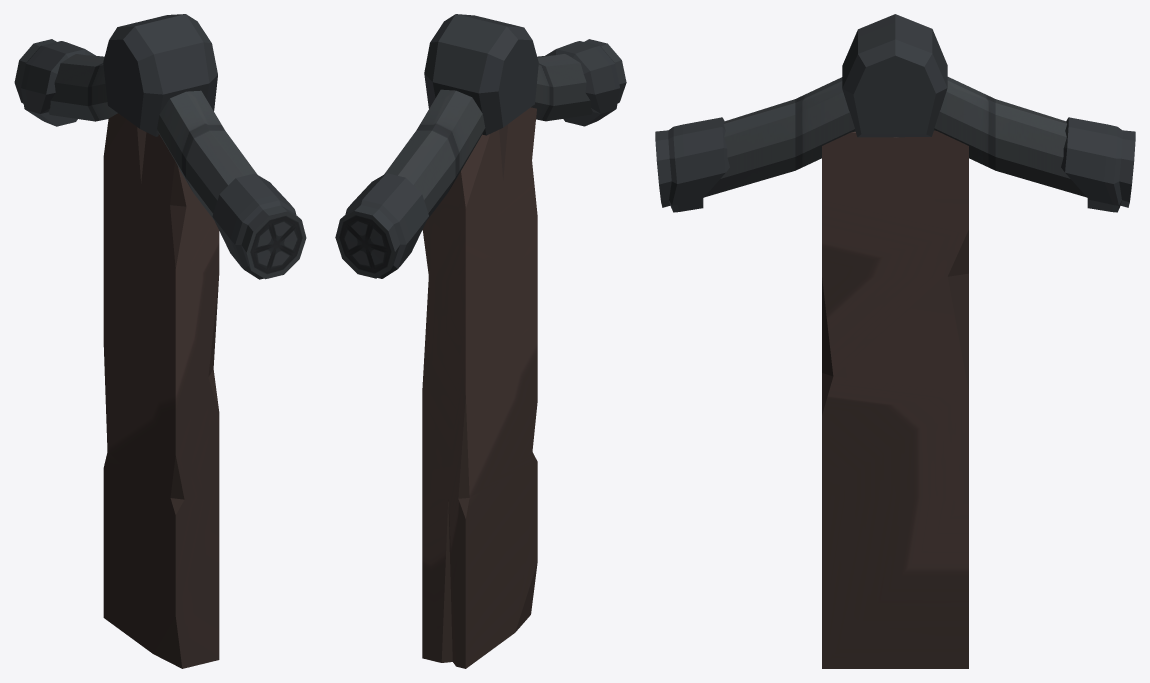
The model's file is SM_Bld_Fence_Dobei_End_01_Alt_01.fbx.
The picture shows the model from 3 angles, left to right: view 1: azimuth 30°, elevation 25°; view 2: azimuth 150°, elevation 25°; view 3: azimuth 270°, elevation 25°; orthographic projection. The views are drawn at different scales.
Visible parts, largest first — view 1: SM_Bld_Fence_Dobei_End_01_Alt_01; view 2: SM_Bld_Fence_Dobei_End_01_Alt_01; view 3: SM_Bld_Fence_Dobei_End_01_Alt_01.
Boxes of the visible parts, x1=… form: SM_Bld_Fence_Dobei_End_01_Alt_01: x1=14, y1=14, x2=306, y2=668; SM_Bld_Fence_Dobei_End_01_Alt_01: x1=335, y1=14, x2=626, y2=668; SM_Bld_Fence_Dobei_End_01_Alt_01: x1=655, y1=14, x2=1135, y2=668.
Size of the model in its own units: 37.89 by 301 by 208.
